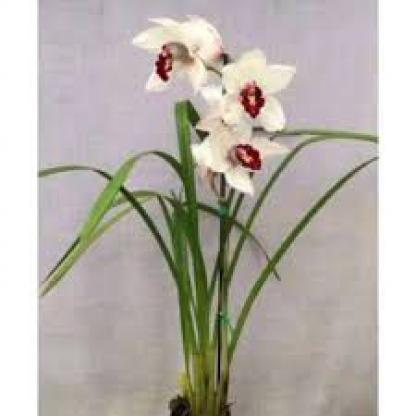ANGGREK: (101, 10, 313, 249)
